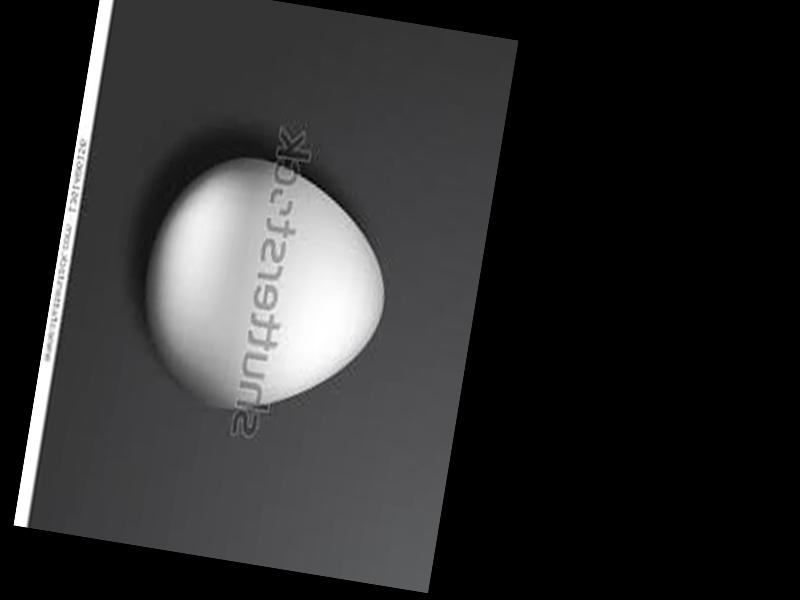Eggs: (130, 145, 405, 431)
